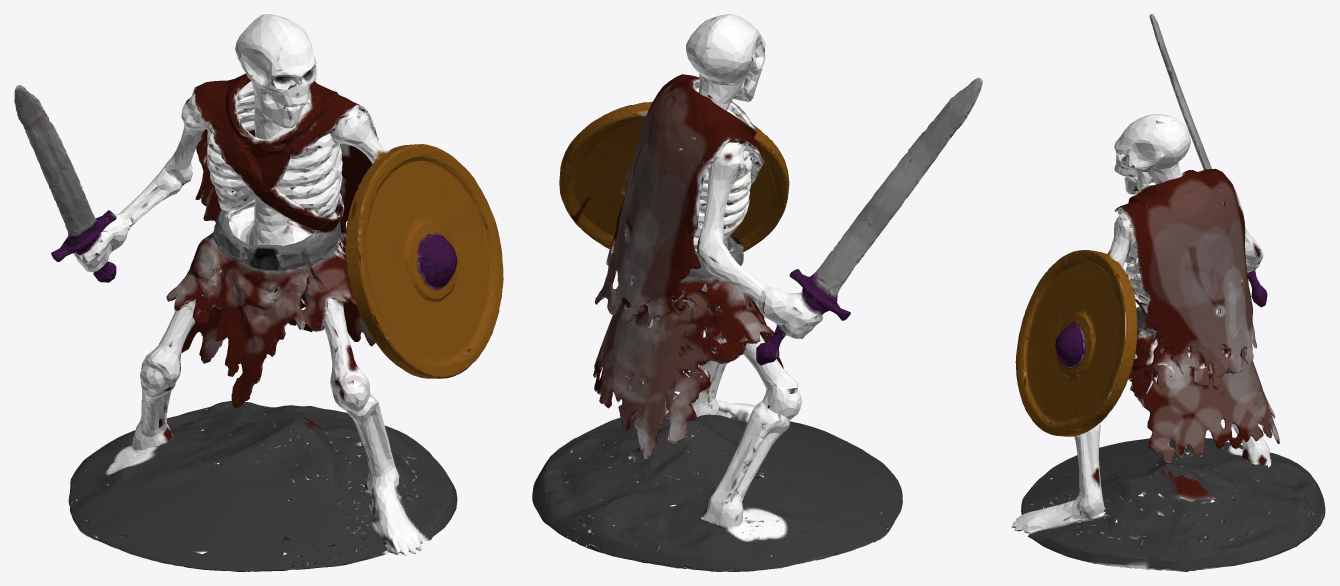
File: esqueleto_humano_pintado.glb
The picture shows the model from 3 angles, left to right: view 1: azimuth 30°, elevation 25°; view 2: azimuth 150°, elevation 25°; view 3: azimuth 270°, elevation 25°; orthographic projection. The views are drawn at different scales.
Parts seen in each view (by area): view 1: tmpqn8_akp3.ply; view 2: tmpqn8_akp3.ply; view 3: tmpqn8_akp3.ply.
Boxes of the visible parts, <box> form: tmpqn8_akp3.ply: <box>14,14,503,571</box>; tmpqn8_akp3.ply: <box>532,14,982,571</box>; tmpqn8_akp3.ply: <box>1011,14,1325,571</box>.
Size of the model in its own units: 1.95 by 1.96 by 1.42.
1 material, 1 textured.
